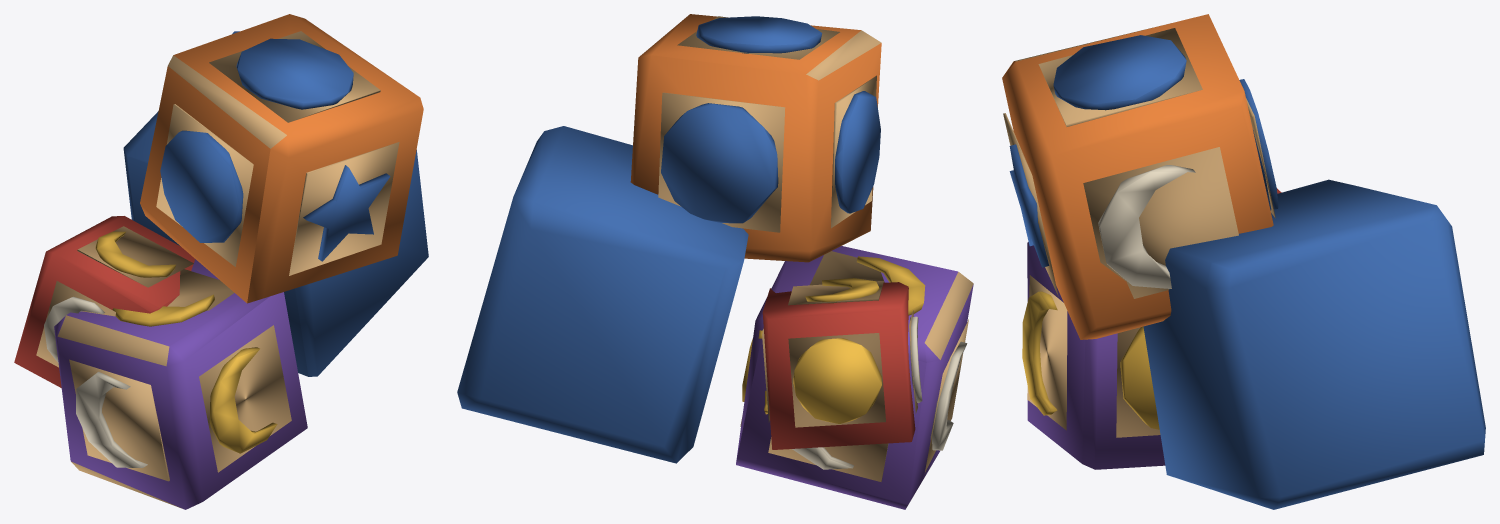
The model's file is den_toy_pile_b_lod2.glb.
3 renders of one model, left to right at view 1: azimuth 30°, elevation 25°; view 2: azimuth 150°, elevation 25°; view 3: azimuth 270°, elevation 25°, orthographic. The views are drawn at different scales.
Visible parts, largest first — view 1: den_toy_pile_b.001; view 2: den_toy_pile_b.001; view 3: den_toy_pile_b.001.
Boxes of the visible parts, left/top/right/bottom form: den_toy_pile_b.001: left=14, top=14, right=428, bottom=509; den_toy_pile_b.001: left=457, top=14, right=973, bottom=509; den_toy_pile_b.001: left=1002, top=14, right=1485, bottom=509.
Size of the model in its own units: 4.31 by 3.99 by 3.85.
